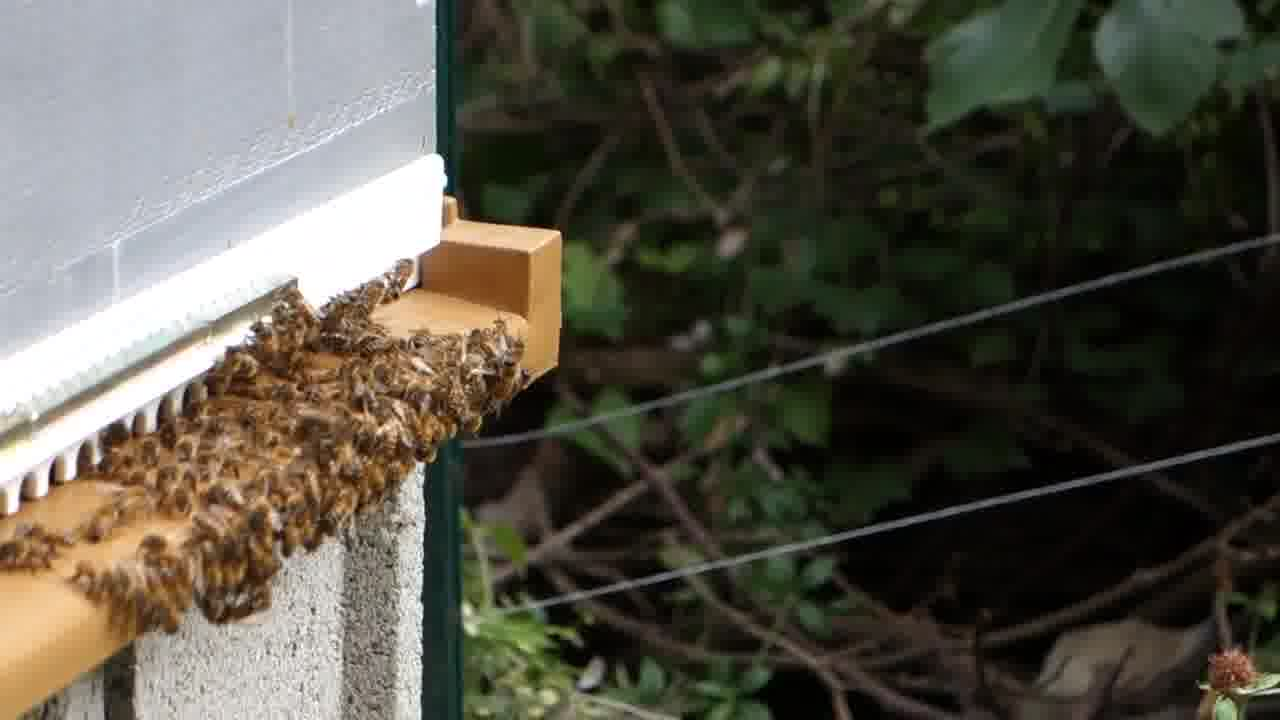bee: (202, 368, 374, 466), (303, 340, 472, 409), (100, 523, 192, 638), (203, 475, 277, 610), (137, 427, 215, 513), (286, 474, 362, 555), (470, 328, 532, 407), (225, 315, 289, 374), (324, 282, 379, 348), (363, 422, 419, 475), (428, 388, 479, 446), (15, 522, 78, 564), (272, 280, 320, 335), (375, 259, 415, 303)
